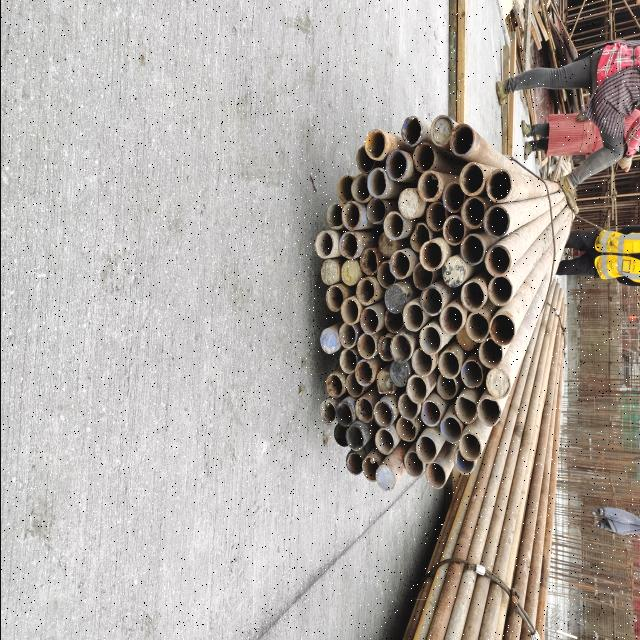pipe: (460, 162, 486, 196), (460, 234, 486, 266), (487, 276, 512, 308), (485, 205, 509, 238), (484, 368, 510, 398), (486, 170, 510, 202), (448, 124, 472, 156), (417, 170, 441, 202), (485, 244, 509, 276), (489, 313, 513, 345), (397, 187, 420, 220), (439, 305, 463, 336), (462, 197, 484, 230), (442, 258, 465, 288), (419, 324, 442, 354), (478, 340, 501, 370), (364, 127, 384, 161), (431, 114, 452, 146), (442, 182, 464, 212), (420, 240, 442, 270), (367, 165, 387, 198), (466, 312, 488, 342), (454, 394, 476, 424), (439, 418, 462, 446), (414, 142, 434, 174), (462, 282, 484, 311), (384, 284, 406, 313), (478, 398, 500, 427), (424, 462, 446, 491), (389, 358, 410, 388), (421, 288, 443, 316), (460, 361, 482, 389), (415, 435, 436, 464), (402, 449, 423, 478), (389, 249, 408, 281), (386, 150, 406, 180), (412, 260, 432, 290), (392, 332, 412, 362), (351, 172, 369, 205), (336, 172, 354, 205), (426, 201, 446, 230), (372, 401, 394, 427), (362, 453, 381, 483), (365, 198, 385, 226), (409, 224, 429, 252), (338, 232, 358, 260), (340, 260, 360, 288), (374, 464, 394, 492), (459, 434, 480, 460), (444, 216, 464, 243), (314, 229, 332, 259), (344, 449, 364, 476), (360, 247, 378, 276), (376, 232, 396, 258), (438, 352, 458, 378), (412, 350, 432, 376), (406, 376, 426, 402), (454, 448, 474, 474), (374, 428, 394, 454), (345, 425, 365, 451), (402, 116, 419, 146), (384, 212, 402, 240), (342, 203, 360, 231), (360, 307, 378, 335), (419, 402, 440, 426), (356, 144, 372, 174), (326, 283, 342, 313), (398, 395, 418, 419), (320, 258, 337, 286), (319, 326, 336, 354), (354, 396, 372, 422), (338, 348, 356, 374), (356, 360, 374, 386), (374, 370, 392, 396), (357, 333, 375, 358), (336, 401, 354, 426), (319, 401, 337, 426), (436, 376, 456, 398), (396, 419, 415, 442), (338, 324, 356, 348), (324, 373, 342, 397), (379, 262, 395, 288), (343, 298, 359, 324), (358, 276, 374, 302), (384, 309, 402, 332), (346, 372, 362, 397), (456, 328, 474, 350), (332, 423, 348, 447), (328, 202, 342, 228), (379, 334, 393, 360)
